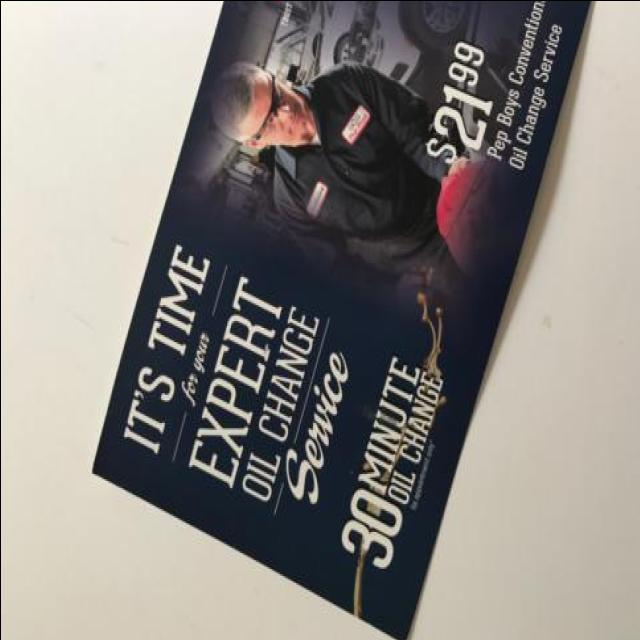kertas: (85, 0, 598, 640)
